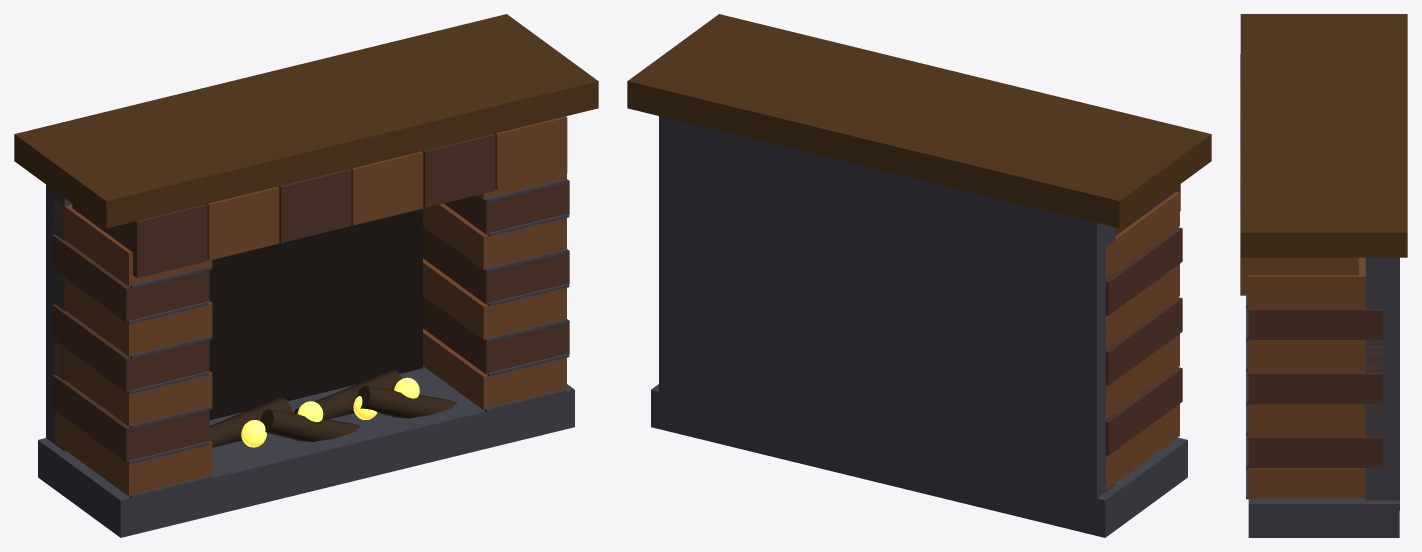
The model's file is mia-fireplace.glb.
The picture shows the model from 3 angles, left to right: view 1: azimuth 30°, elevation 25°; view 2: azimuth 150°, elevation 25°; view 3: azimuth 270°, elevation 25°; orthographic projection. The views are drawn at different scales.
Parts seen in each view (by area): view 1: Body_wood, Body_rust, Body_glaze, Body_stone, Body_black, Body_grain, Body_amber; view 2: Body_stone, Body_wood, Body_rust, Body_glaze; view 3: Body_wood, Body_rust, Body_glaze, Body_stone.
Boxes of the visible parts, x1,y1,x2,y2 form: Body_wood: (14, 14, 598, 228); Body_rust: (55, 116, 567, 496); Body_glaze: (52, 134, 569, 462); Body_stone: (38, 179, 574, 537); Body_black: (209, 208, 422, 419); Body_grain: (209, 370, 457, 447); Body_amber: (241, 377, 419, 447); Body_stone: (651, 116, 1187, 537); Body_wood: (627, 14, 1211, 228); Body_rust: (1106, 191, 1179, 489); Body_glaze: (1106, 184, 1182, 455); Body_wood: (1240, 14, 1407, 257); Body_rust: (1240, 86, 1382, 498); Body_glaze: (1240, 54, 1382, 467); Body_stone: (1246, 257, 1399, 537).
Size of the model in its own units: 2.19 by 1.47 by 0.7085.
